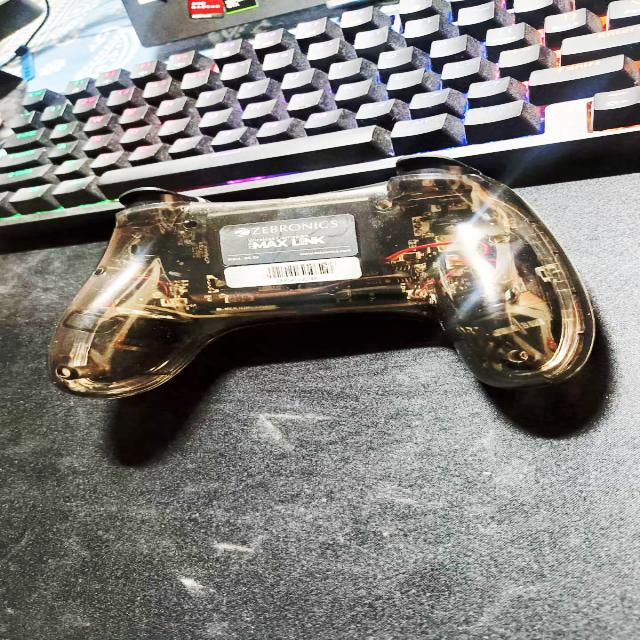gamepad: (2, 0, 636, 459)
